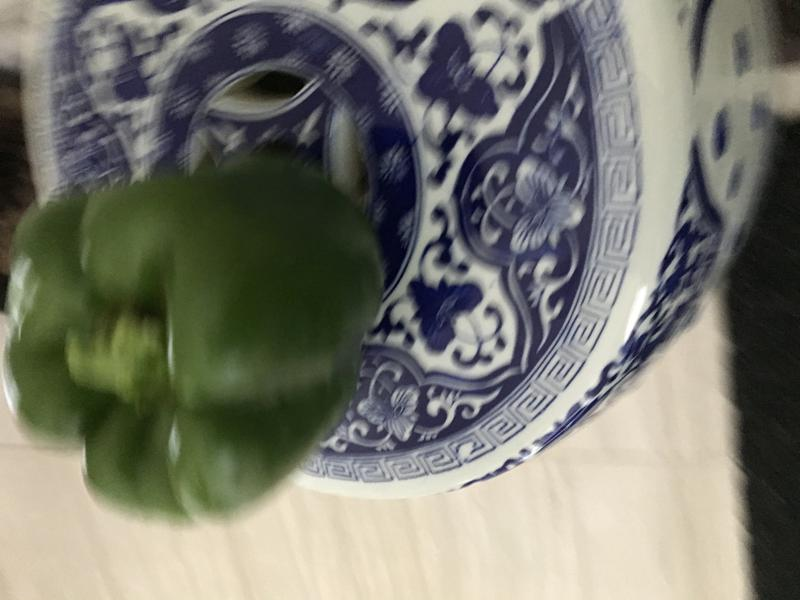green_pepper: (1, 149, 395, 535)
